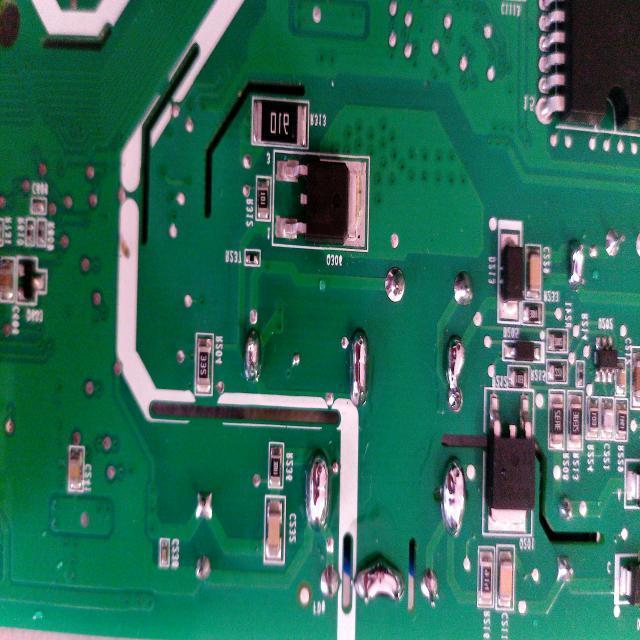Soldering shorted: (352, 554, 406, 608), (304, 448, 334, 536), (439, 448, 467, 542), (347, 327, 373, 408), (446, 339, 468, 415), (566, 232, 588, 292), (241, 328, 264, 383)
